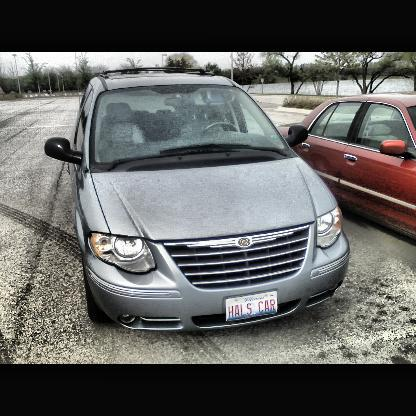Chrysler Town and Country Minivan 2012: (44, 69, 352, 335)
